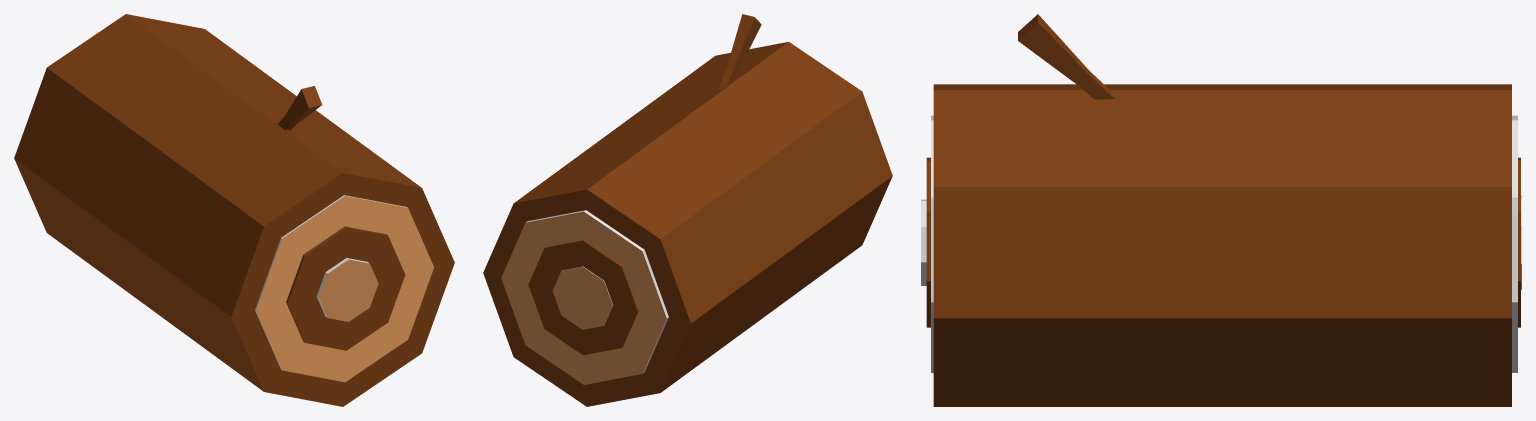
File: logfIXED.fbx
The picture shows the model from 3 angles, left to right: view 1: azimuth 30°, elevation 25°; view 2: azimuth 150°, elevation 25°; view 3: azimuth 270°, elevation 25°; orthographic projection. The views are drawn at different scales.
Visible parts, largest first — view 1: Cylinder, Cylinder.001, Cylinder.003, Cylinder.005, Cube; view 2: Cylinder, Cylinder.002, Cylinder.004, Cylinder.006, Cube; view 3: Cylinder, Cube, Cylinder.002, Cylinder.003, Cylinder.001.
Part boxes in pixels (x1,y1,x2,y2): Cylinder: [14, 14, 454, 406]; Cylinder.001: [255, 195, 434, 382]; Cylinder.003: [286, 226, 405, 350]; Cylinder.005: [316, 258, 378, 321]; Cube: [277, 86, 322, 130]; Cylinder: [483, 42, 892, 406]; Cylinder.002: [501, 210, 668, 384]; Cylinder.004: [528, 240, 638, 355]; Cylinder.006: [552, 266, 613, 329]; Cube: [718, 14, 761, 89]; Cylinder: [933, 84, 1511, 406]; Cube: [1018, 14, 1114, 99]; Cylinder.002: [1512, 115, 1517, 372]; Cylinder.003: [926, 157, 930, 327]; Cylinder.001: [931, 115, 933, 372].
Size of the model in its own units: 200 by 248 by 350.
